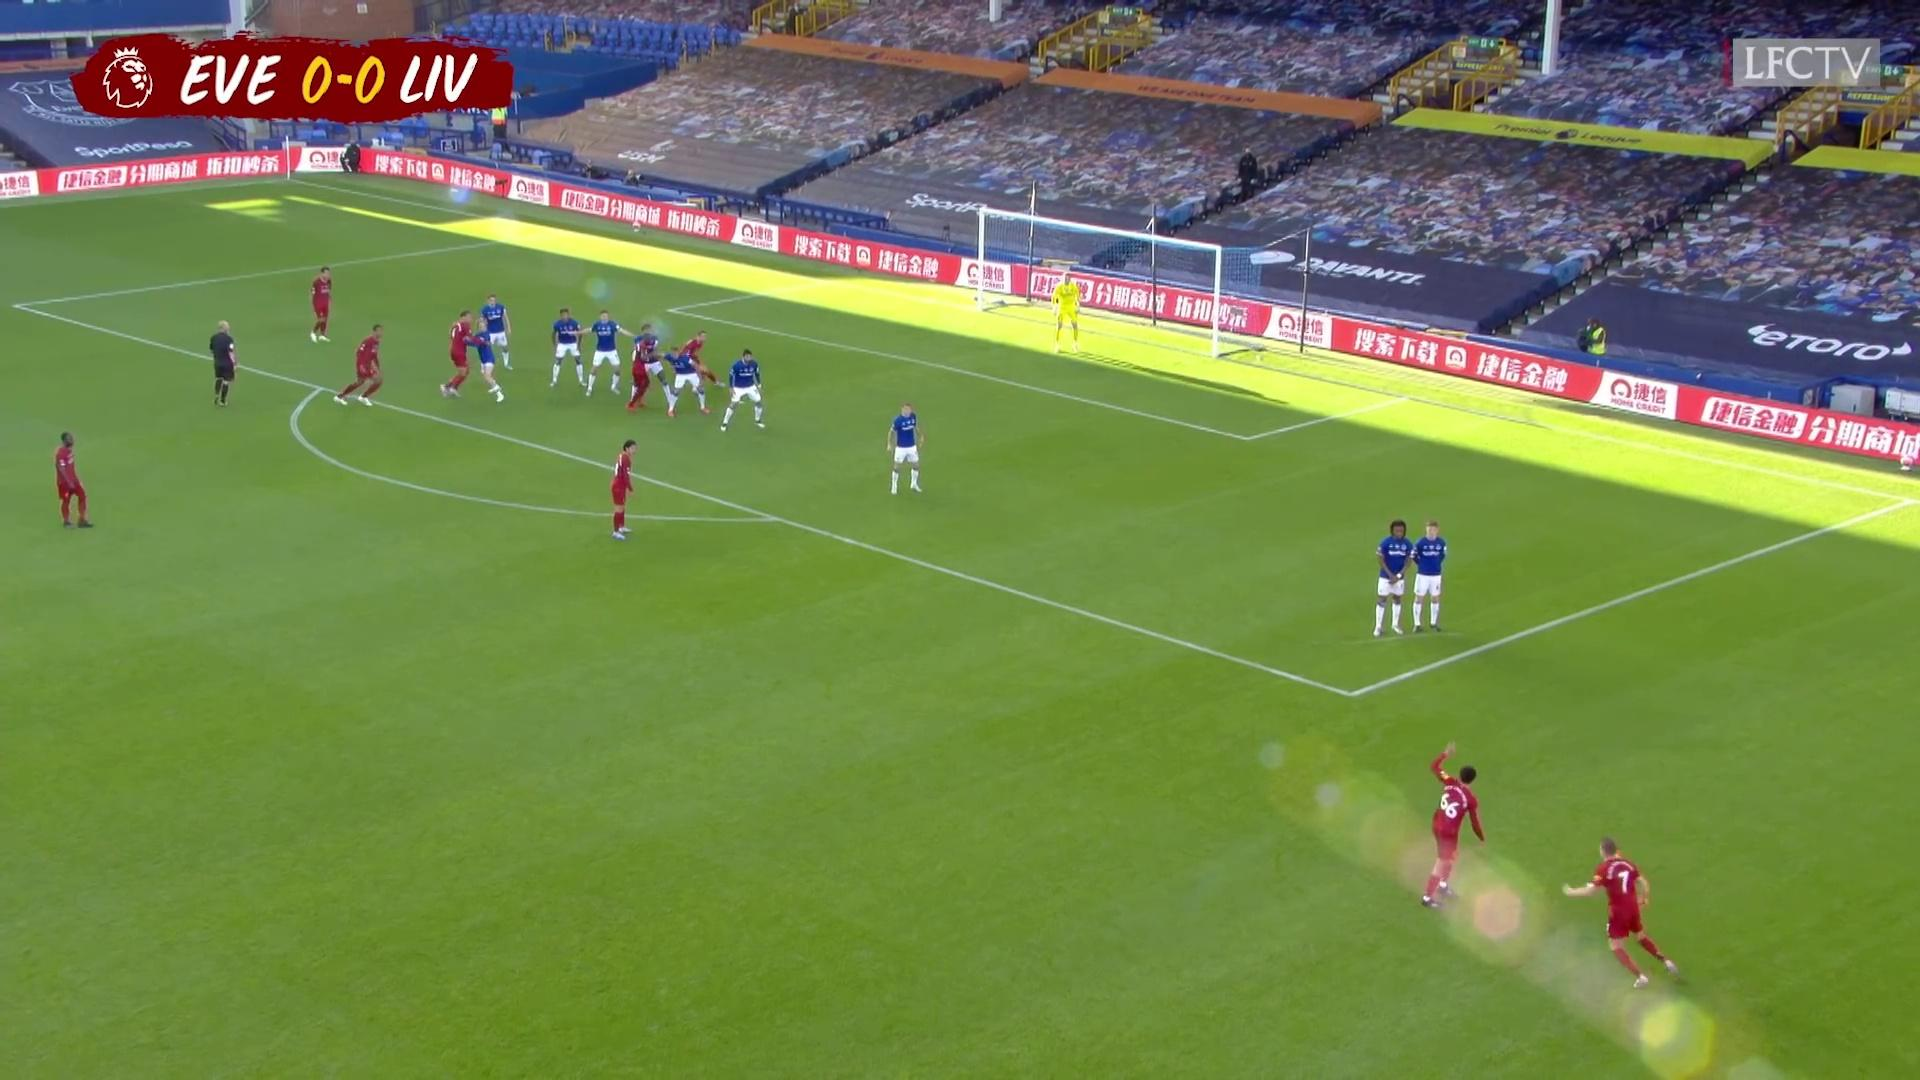goalkeeper: (1052, 270, 1084, 350)
player: (1552, 830, 1679, 988), (1417, 735, 1490, 913), (562, 308, 642, 399), (1368, 519, 1421, 642), (331, 322, 397, 412), (1404, 521, 1452, 639), (440, 307, 497, 404), (51, 432, 99, 539), (663, 328, 716, 418), (717, 345, 770, 432), (881, 397, 926, 498), (548, 307, 594, 394), (607, 438, 645, 542), (628, 323, 675, 407), (463, 318, 506, 405), (672, 330, 729, 389), (471, 289, 510, 373), (303, 266, 338, 348), (624, 331, 654, 415)
referee: (204, 317, 245, 413)
